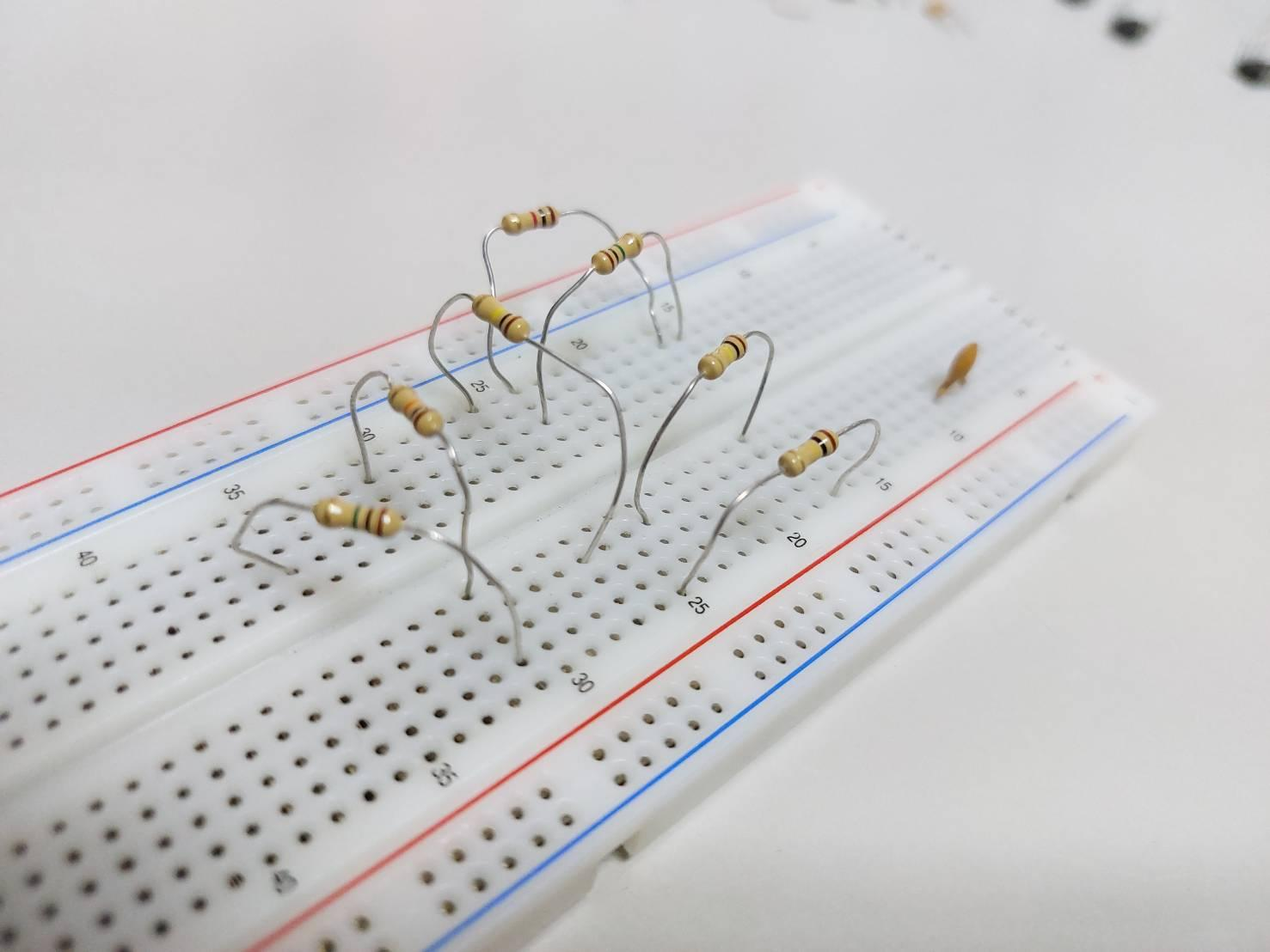resistor: (313, 494, 401, 539), (471, 292, 531, 343), (387, 384, 443, 437), (778, 429, 838, 476), (699, 331, 748, 378), (591, 232, 644, 275), (499, 205, 560, 236)
